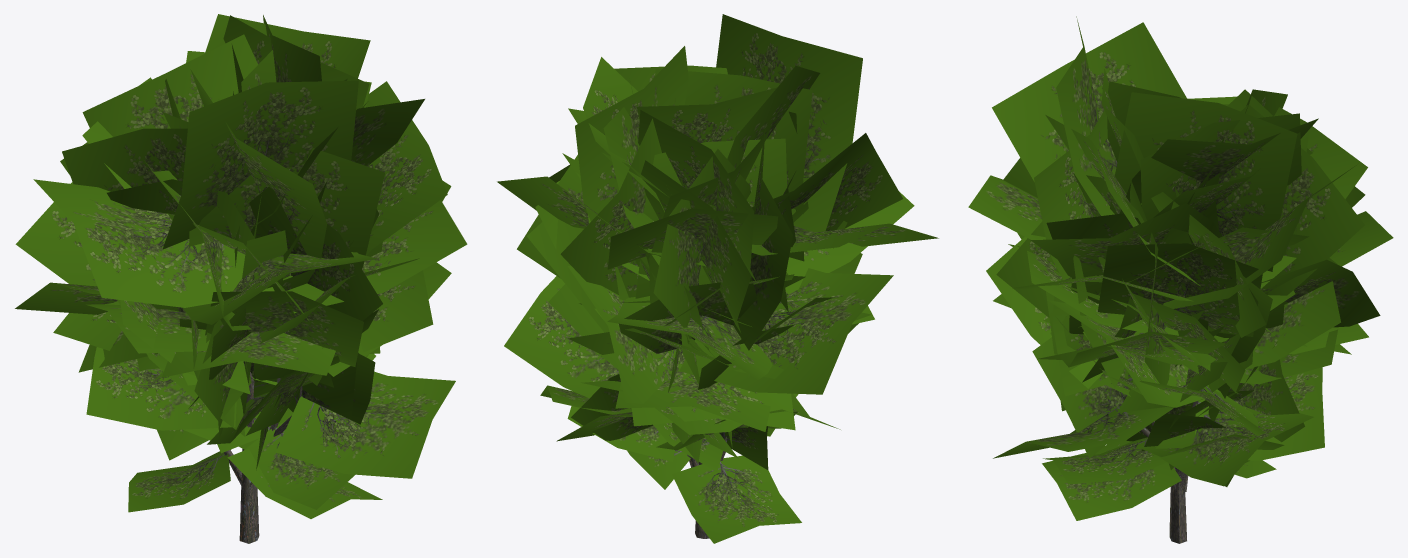
File: bushytree.obj
3 renders of one model, left to right at view 1: azimuth 30°, elevation 25°; view 2: azimuth 150°, elevation 25°; view 3: azimuth 270°, elevation 25°, orthographic. The views are drawn at different scales.
Visible parts, largest first — view 1: Default; view 2: Default; view 3: Default.
Boxes of the visible parts, bbox=[...] form: Default: bbox=[15, 14, 467, 543]; Default: bbox=[497, 14, 938, 543]; Default: bbox=[968, 16, 1393, 543].
Bounding box in the file's own units: 9.13 × 11.39 × 9.13.
Materials: 2 (2 with a texture image).
